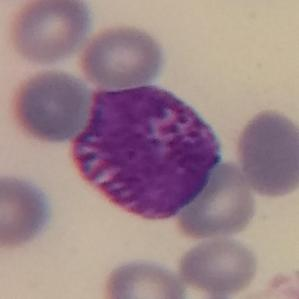Basophil: (68, 75, 232, 233)
RBC: (170, 158, 260, 240), (6, 66, 96, 145), (232, 106, 299, 199), (78, 21, 168, 90), (4, 0, 94, 66), (176, 235, 262, 299), (0, 170, 55, 250), (99, 254, 187, 299), (163, 269, 236, 299), (264, 264, 298, 299)
